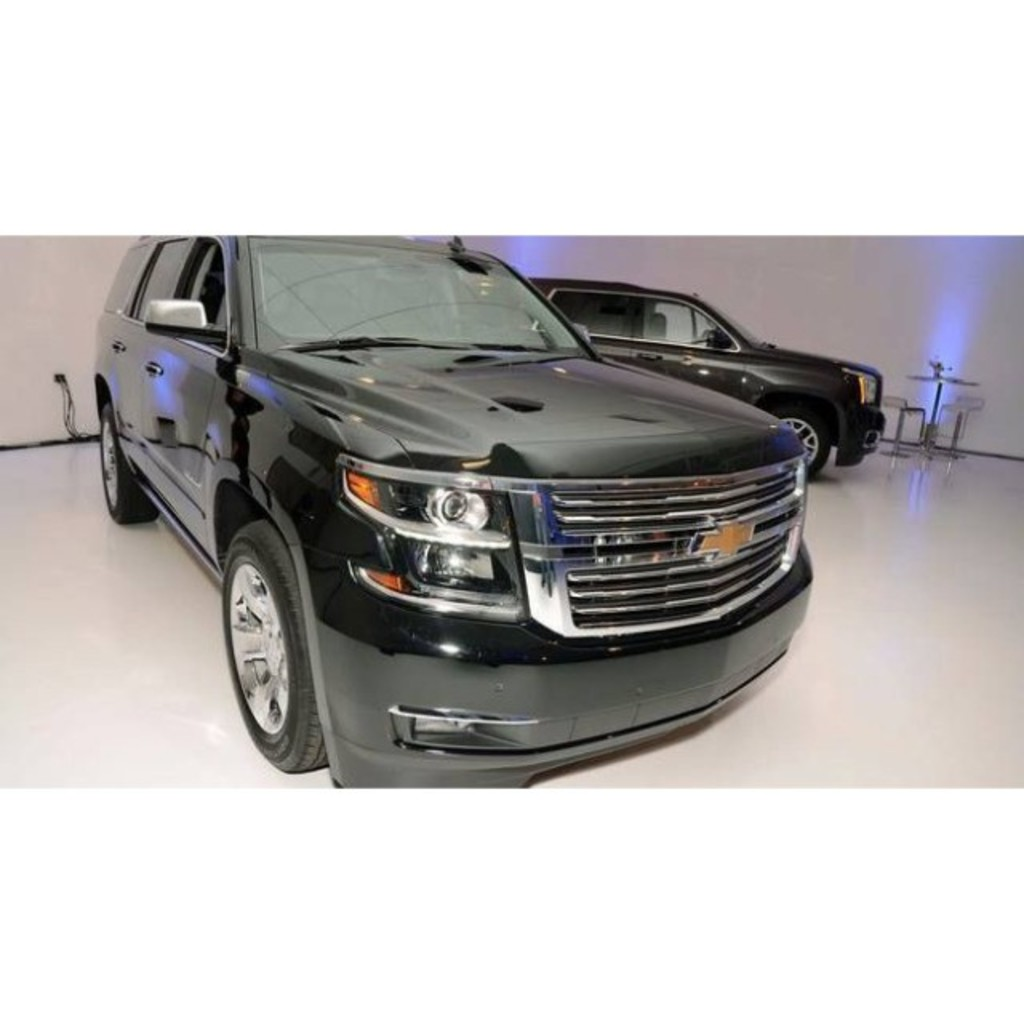car: (86, 236, 827, 786), (500, 269, 894, 485)
